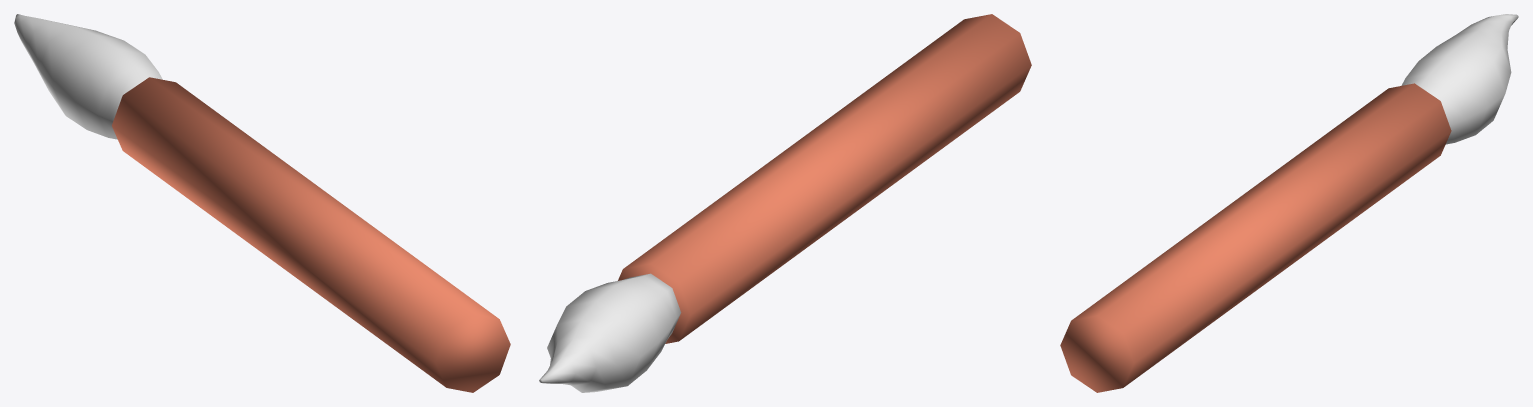
Rendered from pincel.fbx.
The picture shows the model from 3 angles, left to right: view 1: azimuth 30°, elevation 25°; view 2: azimuth 150°, elevation 25°; view 3: azimuth 330°, elevation 25°; orthographic projection. The views are drawn at different scales.
Visible parts, largest first — view 1: palo, pincelPunta; view 2: palo, pincelPunta; view 3: palo, pincelPunta.
Part boxes in pixels (bbox=[...]): palo: bbox=[112, 77, 510, 392]; pincelPunta: bbox=[14, 14, 162, 139]; palo: bbox=[618, 14, 1031, 343]; pincelPunta: bbox=[539, 273, 681, 392]; palo: bbox=[1060, 83, 1451, 392]; pincelPunta: bbox=[1401, 14, 1518, 144].
Bounding box in the file's own units: 14.32 × 14.05 × 130.
